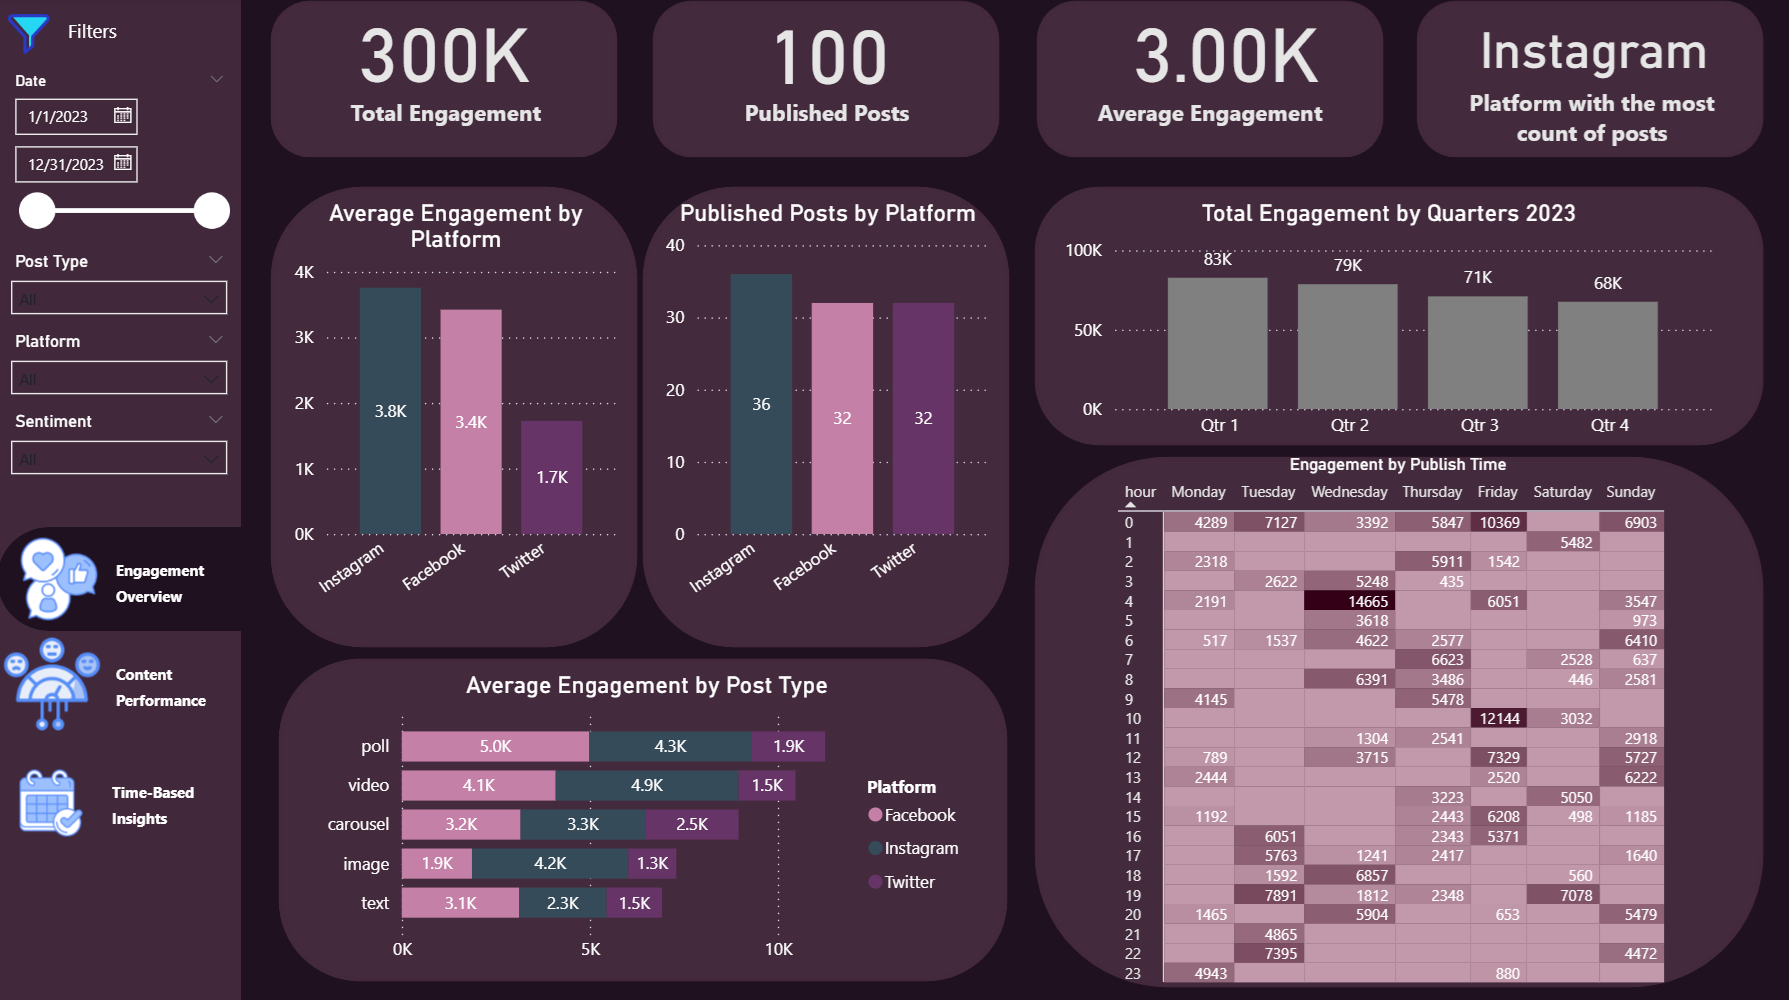

The dashboard page shown, as its layout file describes it:
{"tool":"powerbi","page":{"name":"Engagement Overview","canvas":[1280,720],"ordinal":1},"visuals":[{"type":"shape","box":[197.1,470,528.6,238.6],"z":0},{"type":"shape","box":[0,0,174.3,720],"z":1000},{"type":"shape","box":[0,380,175.7,74.3],"z":2000},{"type":"shape","box":[191.4,0,255.7,120],"z":3000},{"type":"shape","box":[464.3,0,255.7,120],"z":4000},{"type":"shape","box":[738.6,0,255.7,120],"z":5000},{"type":"shape","box":[1010,0,255.7,120],"z":6000},{"type":"card","fields":{"Values":["Sum(fact_post.Total Engagement)"]},"box":[238.6,0,161.4,72.9],"z":7000},{"type":"textbox","box":[242.9,67.1,155.7,42.9],"z":8000},{"type":"card","fields":{"Values":["Avg(fact_post.Total Engagement)"]},"box":[797.1,0,161.4,72.9],"z":9000},{"type":"textbox","box":[774.3,67.1,184.3,42.9],"z":10000},{"type":"card","fields":{"Values":["Count(fact_post.post_id)"]},"box":[512.9,1.4,161.4,72.9],"z":11000},{"type":"textbox","box":[511.4,67.1,162.9,42.9],"z":12000},{"type":"card","fields":{"Values":["PlatformbyEngagement.Top Platform"]},"box":[1045.7,0,190,72.9],"z":13000},{"type":"textbox","box":[1042.9,60,192.9,57.1],"z":14000},{"type":"shape","box":[191.4,132.9,270,337.1],"z":15000},{"type":"columnChart","title":"Average Engagement by Platform","fields":{"Category":["dim_platform.platform_name"],"Y":["Avg(fact_post.Total Engagement)"],"Series":["dim_platform.platform_name"]},"box":[207.1,145.7,241.4,304.3],"z":16000},{"type":"shape","box":[737.1,132.9,528.6,192.9],"z":17000},{"type":"barChart","title":"Average Engagement by Post Type","fields":{"Category":["dim_post_type.post_type"],"Series":["dim_platform.platform_name"],"Y":["Avg(fact_post.Total Engagement)"]},"box":[227.1,482.9,474.3,217.1],"z":18000},{"type":"columnChart","title":"Total Engagement by Quarters 2023","fields":{"Y":["Sum(fact_post.Total Engagement)"],"Category":["dim_time.Date.Variation.Date Hierarchy.Quarter"]},"box":[757.1,145.7,474.3,180],"z":19000},{"type":"shape","box":[737.1,325.7,528.6,387.1],"z":20000},{"type":"pivotTable","title":"Engagement by Publish Time","fields":{"Values":["Sum(fact_post.Total Engagement)"],"Rows":["dim_time.hour"],"Columns":["dim_time.post_day"]},"box":[795.7,328.6,410,384.3],"z":21000},{"type":"shape","box":[457.1,132.9,270,337.1],"z":22000},{"type":"columnChart","title":"Published Posts  by Platform","fields":{"Category":["dim_platform.platform_name"],"Y":["Count(fact_post.post_id)"],"Series":["dim_platform.platform_name"]},"box":[472.9,145.7,241.4,304.3],"z":23000},{"type":"actionButton","box":[10,382.9,165.7,68.6],"z":24000},{"type":"textbox","box":[77.1,554.3,97.1,51.4],"z":27000},{"type":"textbox","box":[80,470,95.7,50],"z":28000},{"type":"textbox","box":[80,395.7,94.3,57.1],"z":29000},{"type":"image","box":[0,4.3,45.7,45.7],"z":30000},{"type":"textbox","box":[45.7,11.4,74.3,32.9],"z":31000},{"type":"slicer","fields":{"Values":["dim_time.Date"]},"box":[0,50,174.3,122.9],"z":32000},{"type":"slicer","fields":{"Values":["dim_post_type.post_type"]},"box":[0,178.6,174.3,67.1],"z":33000},{"type":"slicer","fields":{"Values":["dim_platform.platform_name"]},"box":[0,235.7,174.3,67.1],"z":34000},{"type":"slicer","fields":{"Values":["dim_sentiment.sentiment_label"]},"box":[0,292.9,174.3,67.1],"z":35000},{"type":"actionButton","box":[0,452.9,175.7,78.6],"z":35500},{"type":"actionButton","box":[10,548.6,165.7,57.1],"z":36000}]}

Visuals, with their boxes in screenshot pixels (x1, y1, x2, y2), scaled from the page's 1280x720 canvas onto the 1789x1000 screenshot:
shape: (left=275, top=653, right=1014, bottom=984)
shape: (left=0, top=0, right=244, bottom=999)
shape: (left=0, top=528, right=246, bottom=631)
shape: (left=268, top=0, right=625, bottom=167)
shape: (left=649, top=0, right=1006, bottom=167)
shape: (left=1032, top=0, right=1390, bottom=167)
shape: (left=1412, top=0, right=1769, bottom=167)
card - Sum(fact_post.Total Engagement): (left=333, top=0, right=559, bottom=101)
textbox: (left=339, top=93, right=557, bottom=153)
card - Avg(fact_post.Total Engagement): (left=1114, top=0, right=1340, bottom=101)
textbox: (left=1082, top=93, right=1340, bottom=153)
card - Count(fact_post.post_id): (left=717, top=2, right=942, bottom=103)
textbox: (left=715, top=93, right=942, bottom=153)
card - PlatformbyEngagement.Top Platform: (left=1462, top=0, right=1727, bottom=101)
textbox: (left=1458, top=83, right=1727, bottom=163)
shape: (left=268, top=185, right=645, bottom=653)
"Average Engagement by Platform" columnChart: (left=289, top=202, right=627, bottom=625)
shape: (left=1030, top=185, right=1769, bottom=452)
"Average Engagement by Post Type" barChart: (left=317, top=671, right=980, bottom=972)
"Total Engagement by Quarters 2023" columnChart: (left=1058, top=202, right=1721, bottom=452)
shape: (left=1030, top=452, right=1769, bottom=990)
"Engagement by Publish Time" pivotTable: (left=1112, top=456, right=1685, bottom=990)
shape: (left=639, top=185, right=1016, bottom=653)
"Published Posts  by Platform" columnChart: (left=661, top=202, right=998, bottom=625)
actionButton: (left=14, top=532, right=246, bottom=627)
textbox: (left=108, top=770, right=243, bottom=841)
textbox: (left=112, top=653, right=246, bottom=722)
textbox: (left=112, top=550, right=244, bottom=629)
image: (left=0, top=6, right=64, bottom=69)
textbox: (left=64, top=16, right=168, bottom=62)
slicer - dim_time.Date: (left=0, top=69, right=244, bottom=240)
slicer - dim_post_type.post_type: (left=0, top=248, right=244, bottom=341)
slicer - dim_platform.platform_name: (left=0, top=327, right=244, bottom=421)
slicer - dim_sentiment.sentiment_label: (left=0, top=407, right=244, bottom=500)
actionButton: (left=0, top=629, right=246, bottom=738)
actionButton: (left=14, top=762, right=246, bottom=841)
